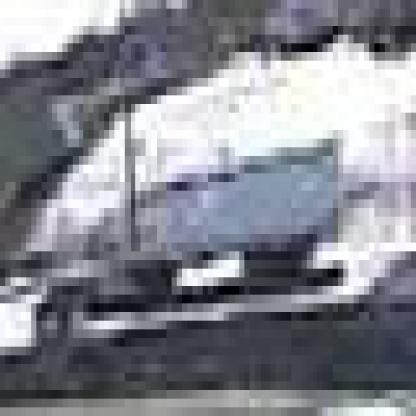container: (11, 36, 412, 400)
